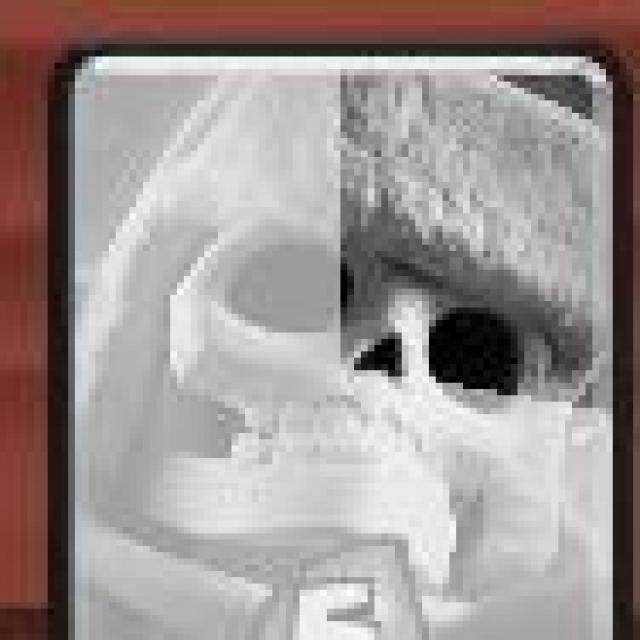Giant_Skeleton: (49, 46, 633, 640)
